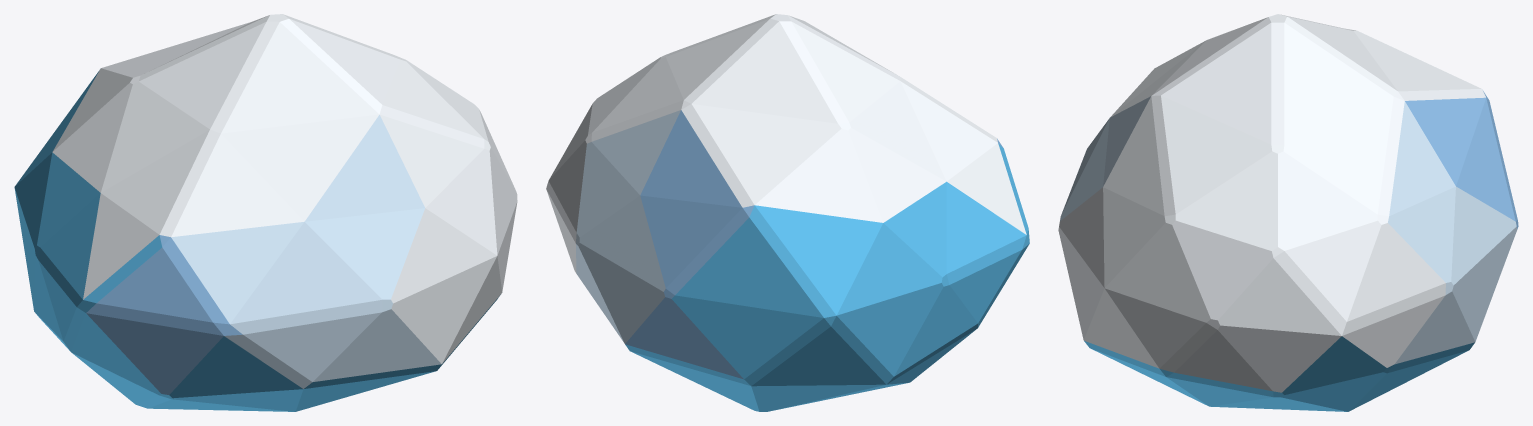
File: IceBoulder.fbx
3 views of the same model, side by side, from view 1: azimuth 30°, elevation 25°; view 2: azimuth 150°, elevation 25°; view 3: azimuth 270°, elevation 25° (orthographic). The views are drawn at different scales.
Visible parts, largest first — view 1: IceBoulder; view 2: IceBoulder; view 3: IceBoulder.
Boxes of the visible parts, x1,y1,x2,y2 form: IceBoulder: [14, 14, 517, 411]; IceBoulder: [546, 14, 1029, 411]; IceBoulder: [1058, 14, 1518, 411].
Size of the model in its own units: 1.52 by 1.17 by 1.36.
1 material, 1 textured.
